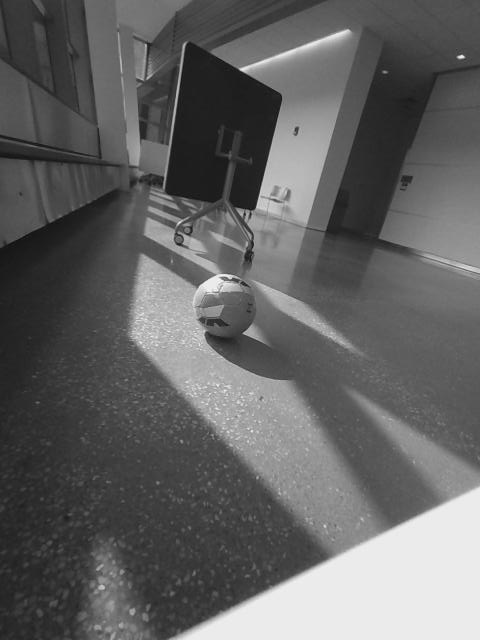ball: (190, 271, 262, 339)
